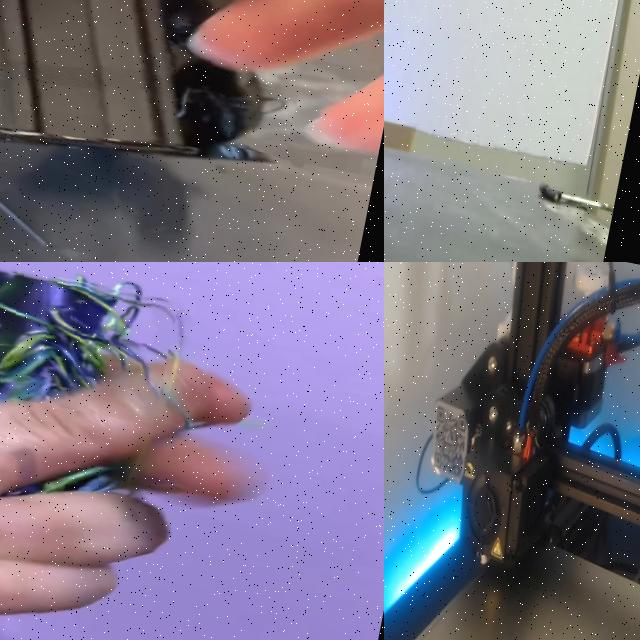spaghetti: (0, 262, 180, 426), (167, 67, 299, 157), (22, 453, 152, 508)
